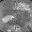people: (1, 15, 15, 23)
